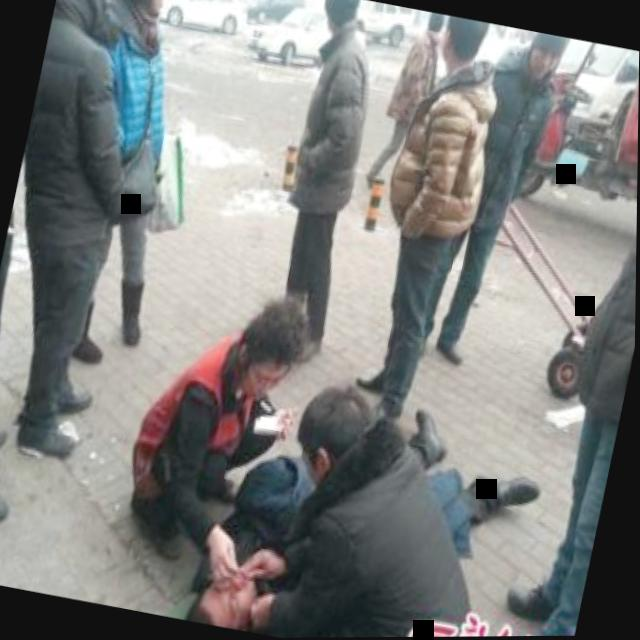Fall-Detected: (219, 364, 567, 639)
